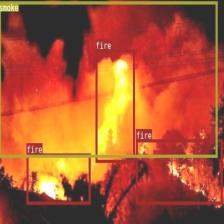fire: (136, 139, 223, 204), (96, 49, 134, 162), (27, 153, 90, 204)
smoke: (0, 1, 217, 157)
